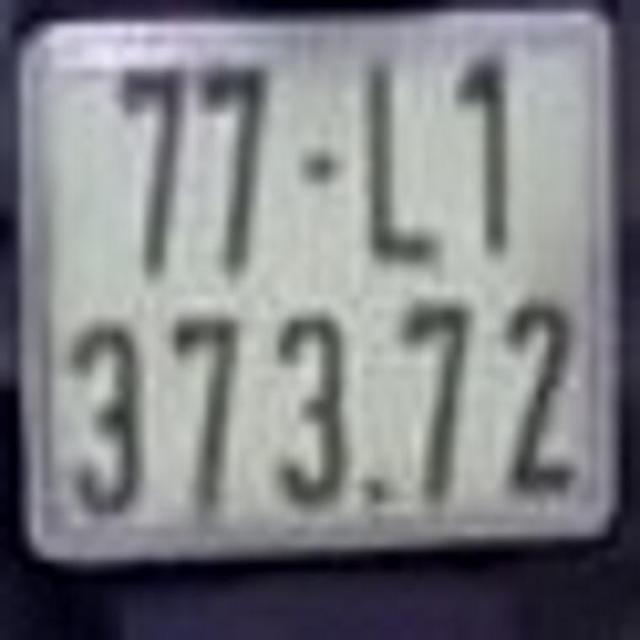1: (452, 48, 512, 254)
2: (496, 295, 582, 492)
3: (62, 315, 142, 512), (270, 308, 347, 503)
7: (197, 59, 270, 280), (115, 62, 181, 280), (401, 292, 466, 503), (171, 313, 237, 506)
L: (362, 47, 440, 262)
